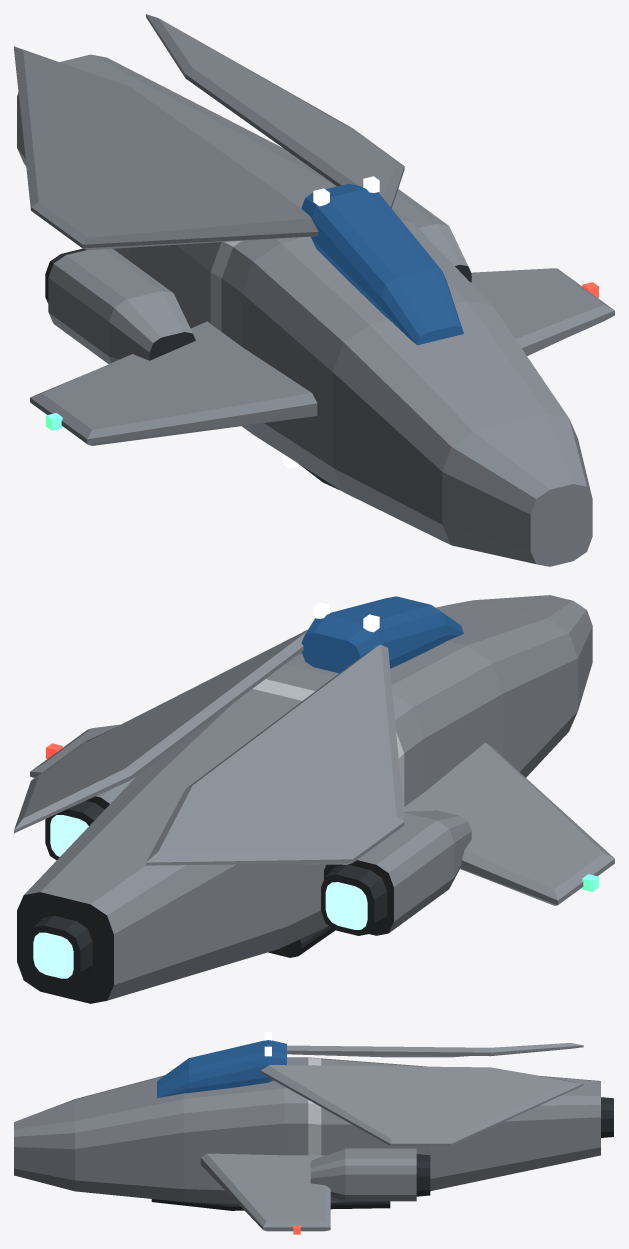
Rendered from diamondback-explorer.glb.
3 renders of one model, top to bottom at view 1: azimuth 30°, elevation 25°; view 2: azimuth 150°, elevation 25°; view 3: azimuth 270°, elevation 25°, orthographic. The views are drawn at different scales.
Visible parts, largest first — view 1: diamondback-explorer; view 2: diamondback-explorer; view 3: diamondback-explorer.
Part boxes in pixels (bbox=[...]): diamondback-explorer: bbox=[14, 14, 614, 566]; diamondback-explorer: bbox=[14, 595, 614, 1003]; diamondback-explorer: bbox=[14, 1032, 613, 1234].
Size of the model in its own units: 28.18 by 13.35 by 45.35.
